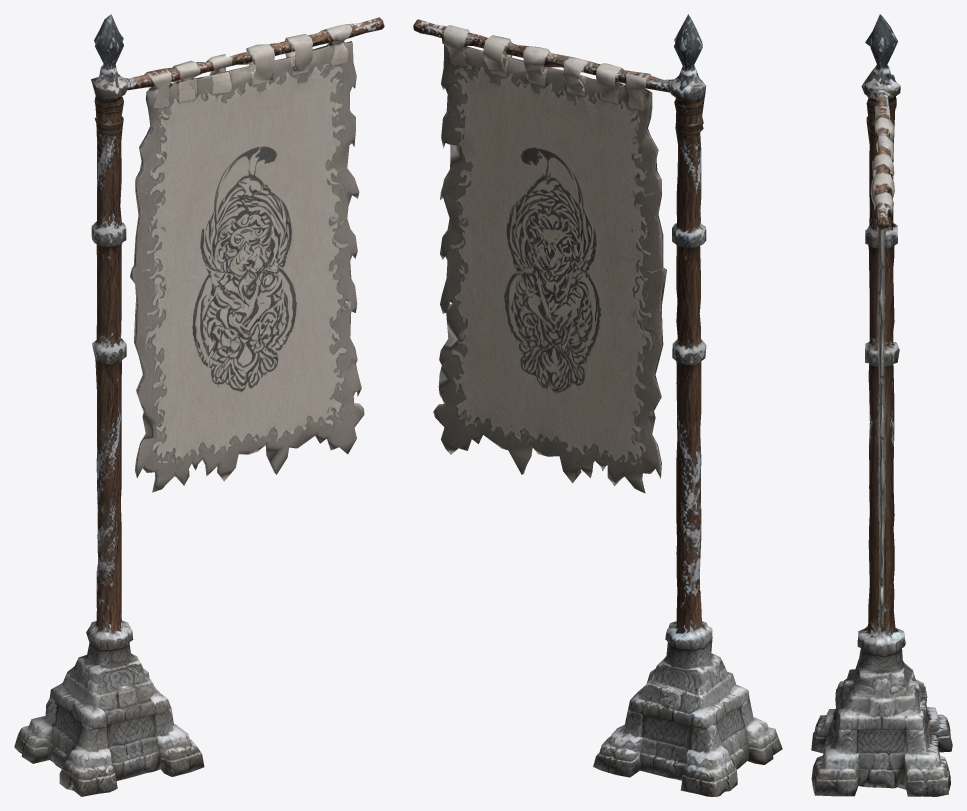
File: PR_ObangFlag_White.fbx
3 views of the same model, side by side, from view 1: azimuth 30°, elevation 25°; view 2: azimuth 150°, elevation 25°; view 3: azimuth 270°, elevation 25° (orthographic).
Visible parts, largest first — view 1: texture_mapping; view 2: texture_mapping; view 3: texture_mapping.
Boxes of the visible parts, box(x1,y1,x2,y2) form: texture_mapping: box(14, 14, 384, 796); texture_mapping: box(413, 14, 782, 796); texture_mapping: box(811, 14, 952, 796).
Size of the model in its own units: 0.4731 by 0.1702 by 1.
Materials: 1 (1 with a texture image).
